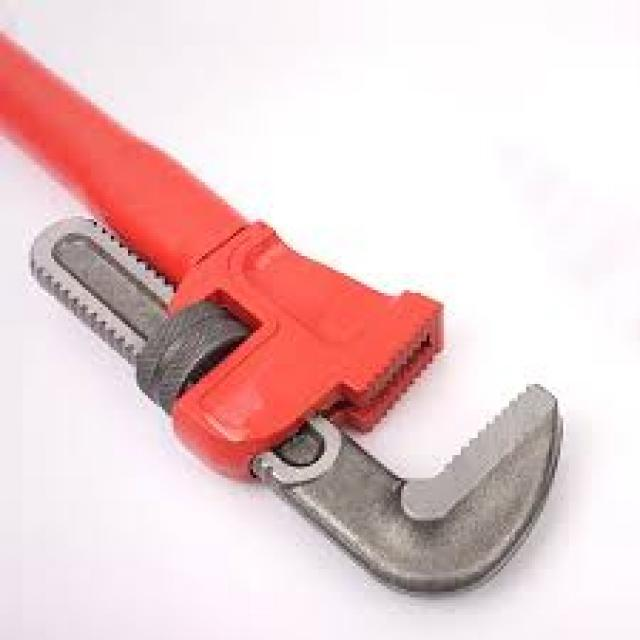wrench: (0, 34, 572, 606)
